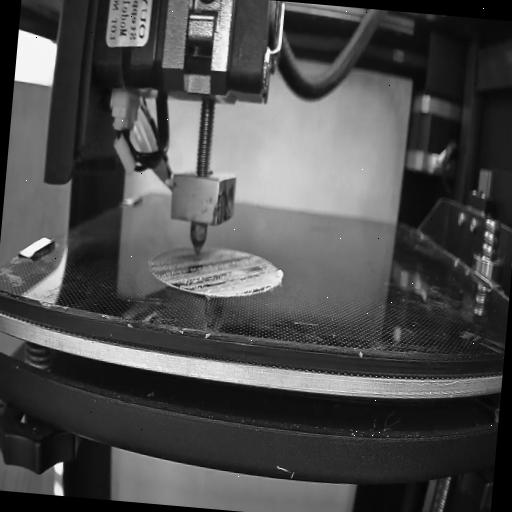under_extrusion: (150, 248, 243, 294), (242, 261, 274, 296)
